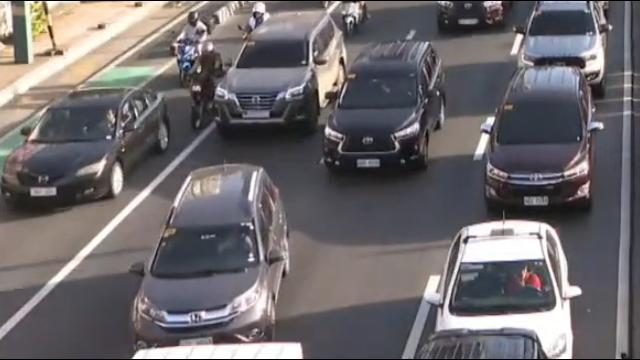car: (130, 166, 289, 342), (0, 83, 172, 208), (422, 218, 571, 360), (474, 62, 607, 211), (210, 5, 350, 139), (315, 39, 449, 174), (512, 0, 617, 96), (435, 0, 509, 31)
motorcycle: (173, 10, 218, 88), (187, 51, 232, 129), (242, 0, 271, 42), (338, 0, 367, 34)
